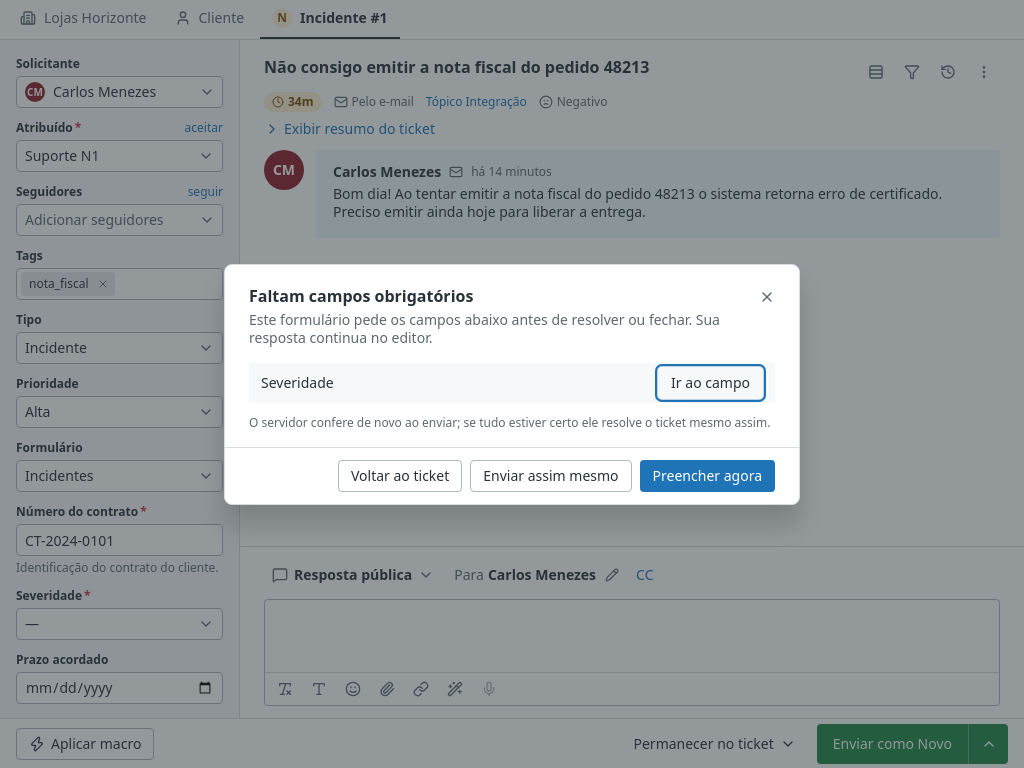
Test: resolver com obrigatório pendente › o servidor recusa (enviar assim mesmo): o diálogo muda para "não foi resolvido" e nada é fechado
Expected: the field labelled "Número do contrato*" is shown, [17, 525, 222, 555]
Step 1. Click the button "Enviar assim mesmo" → x=551, y=476, box [470, 460, 632, 492]
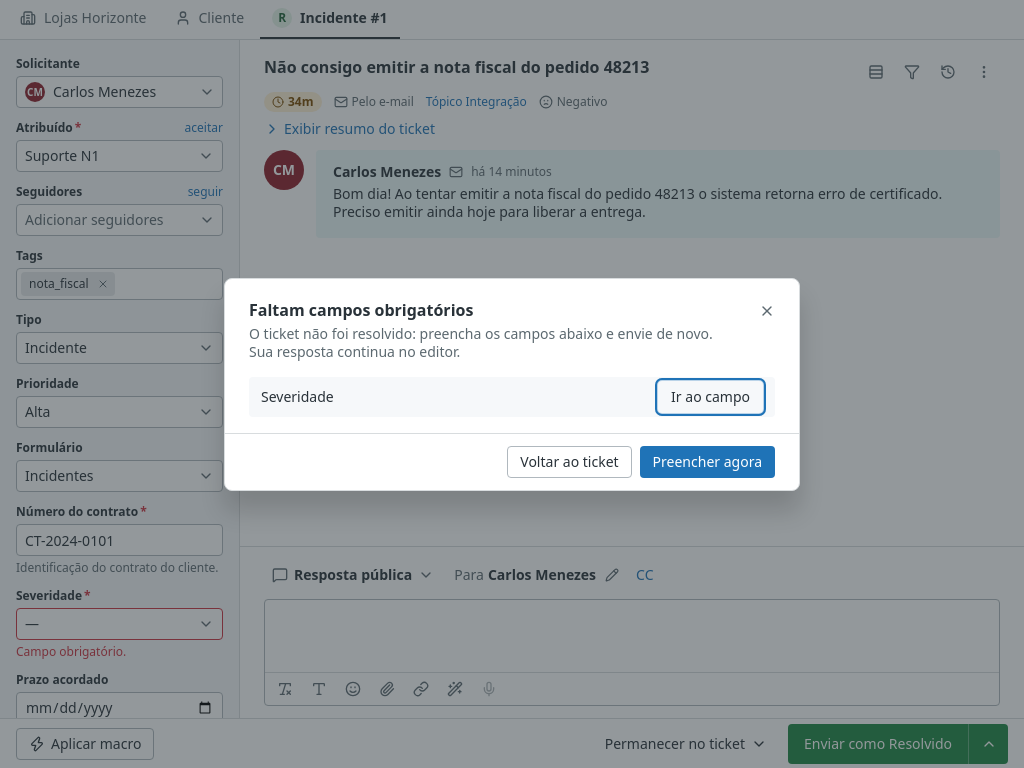
Now the text "O ticket não foi resolvido" is shown, box [249, 324, 713, 360]
Now the button "Enviar assim mesmo" is gone
